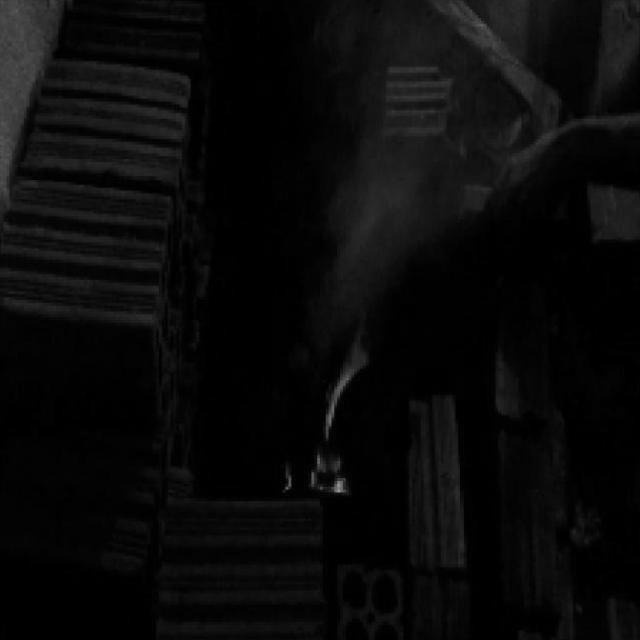fire: (320, 2, 476, 324)
smoke: (279, 338, 369, 503)
